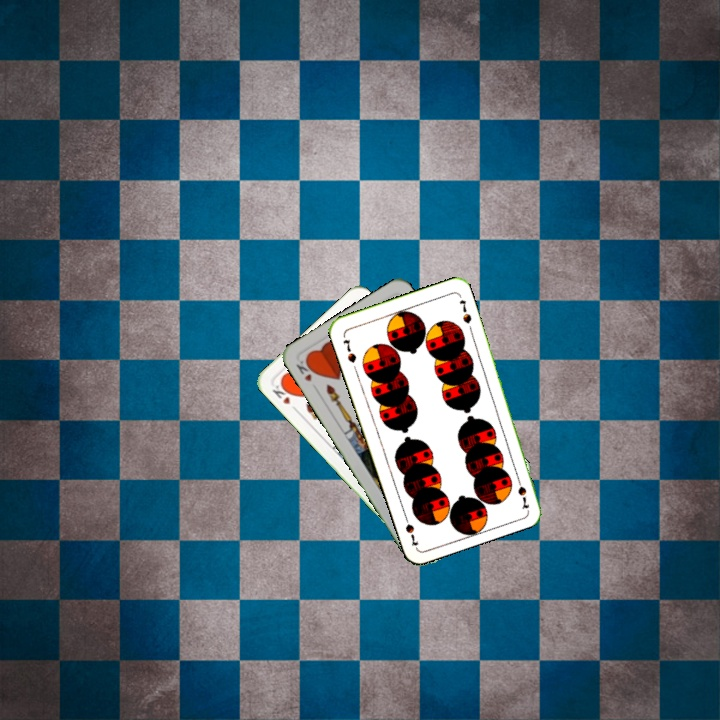HK: (268, 379, 295, 407), (292, 355, 318, 384)
S7: (512, 471, 532, 511), (339, 335, 359, 365)
